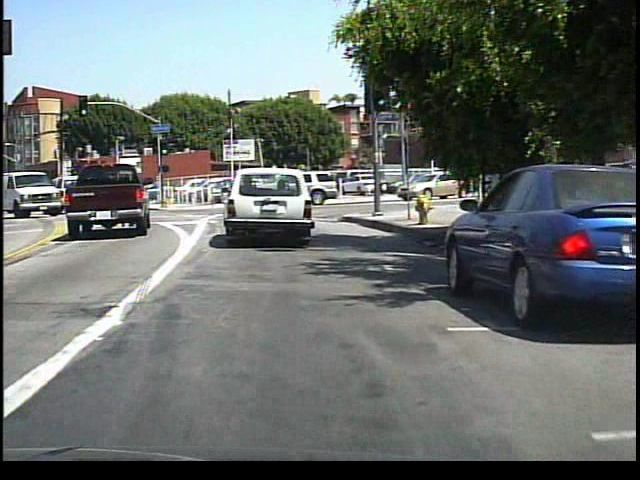person: (367, 165, 384, 201)
